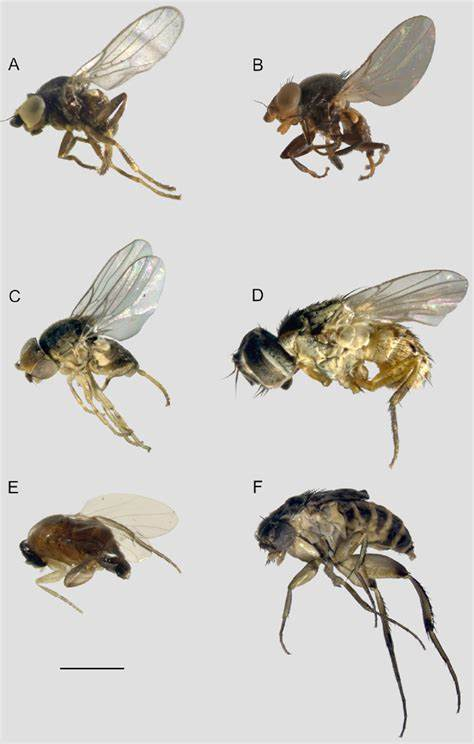Chloropidae: (253, 490, 468, 743), (224, 270, 474, 468), (17, 237, 178, 456), (21, 1, 184, 200), (255, 12, 436, 180), (18, 502, 188, 604)
